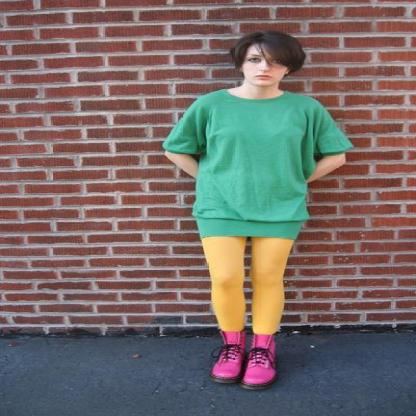shirt: (162, 89, 352, 240)
shoe: (224, 326, 274, 384)
